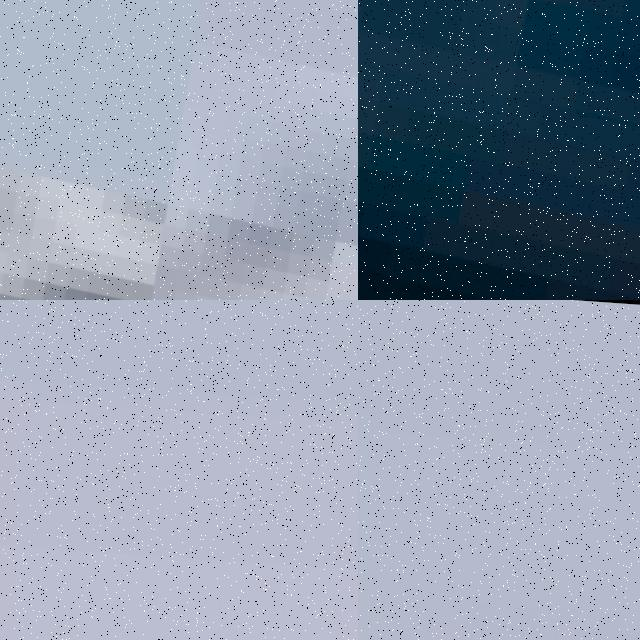0: (0, 0, 358, 300)
drone: (358, 0, 640, 300)
